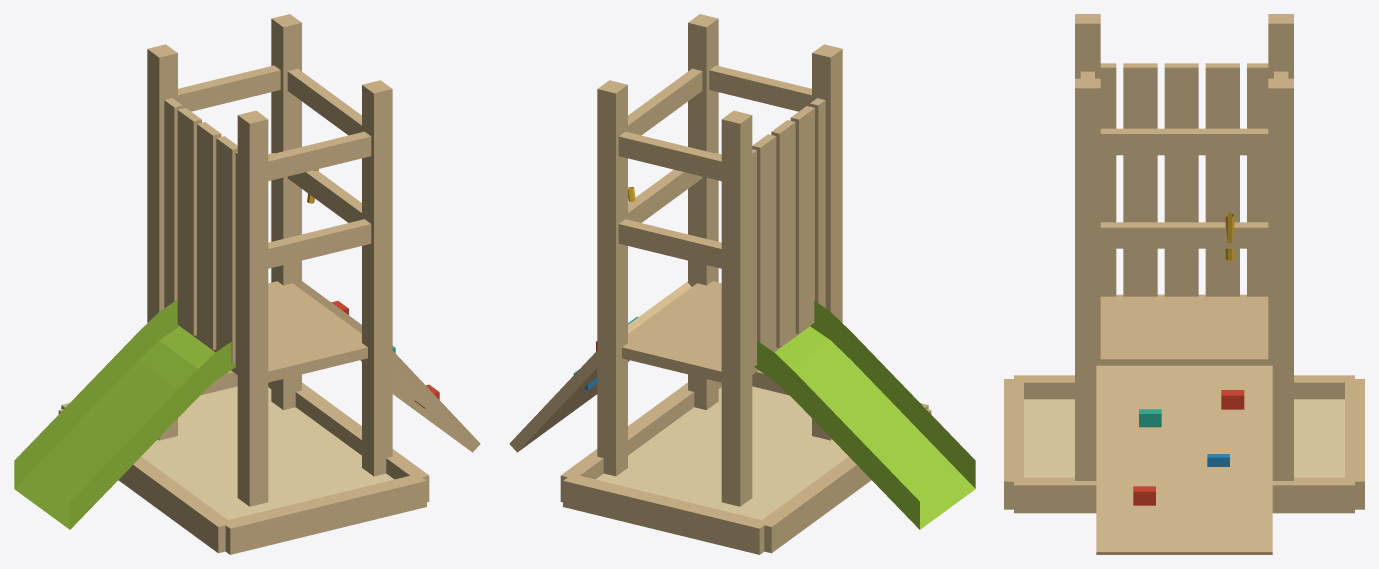
3 renders of one model, left to right at view 1: azimuth 30°, elevation 25°; view 2: azimuth 150°, elevation 25°; view 3: azimuth 270°, elevation 25°, orthographic. The views are drawn at different scales.
Parts seen in each view (by area): view 1: SW-T211; view 2: SW-T211; view 3: SW-T211.
Boxes of the visible parts, <box> form: SW-T211: <box>14,14,480,554</box>; SW-T211: <box>509,14,975,554</box>; SW-T211: <box>1004,14,1364,554</box>.
Size of the model in its own units: 1.9 by 1.8 by 1.4.
